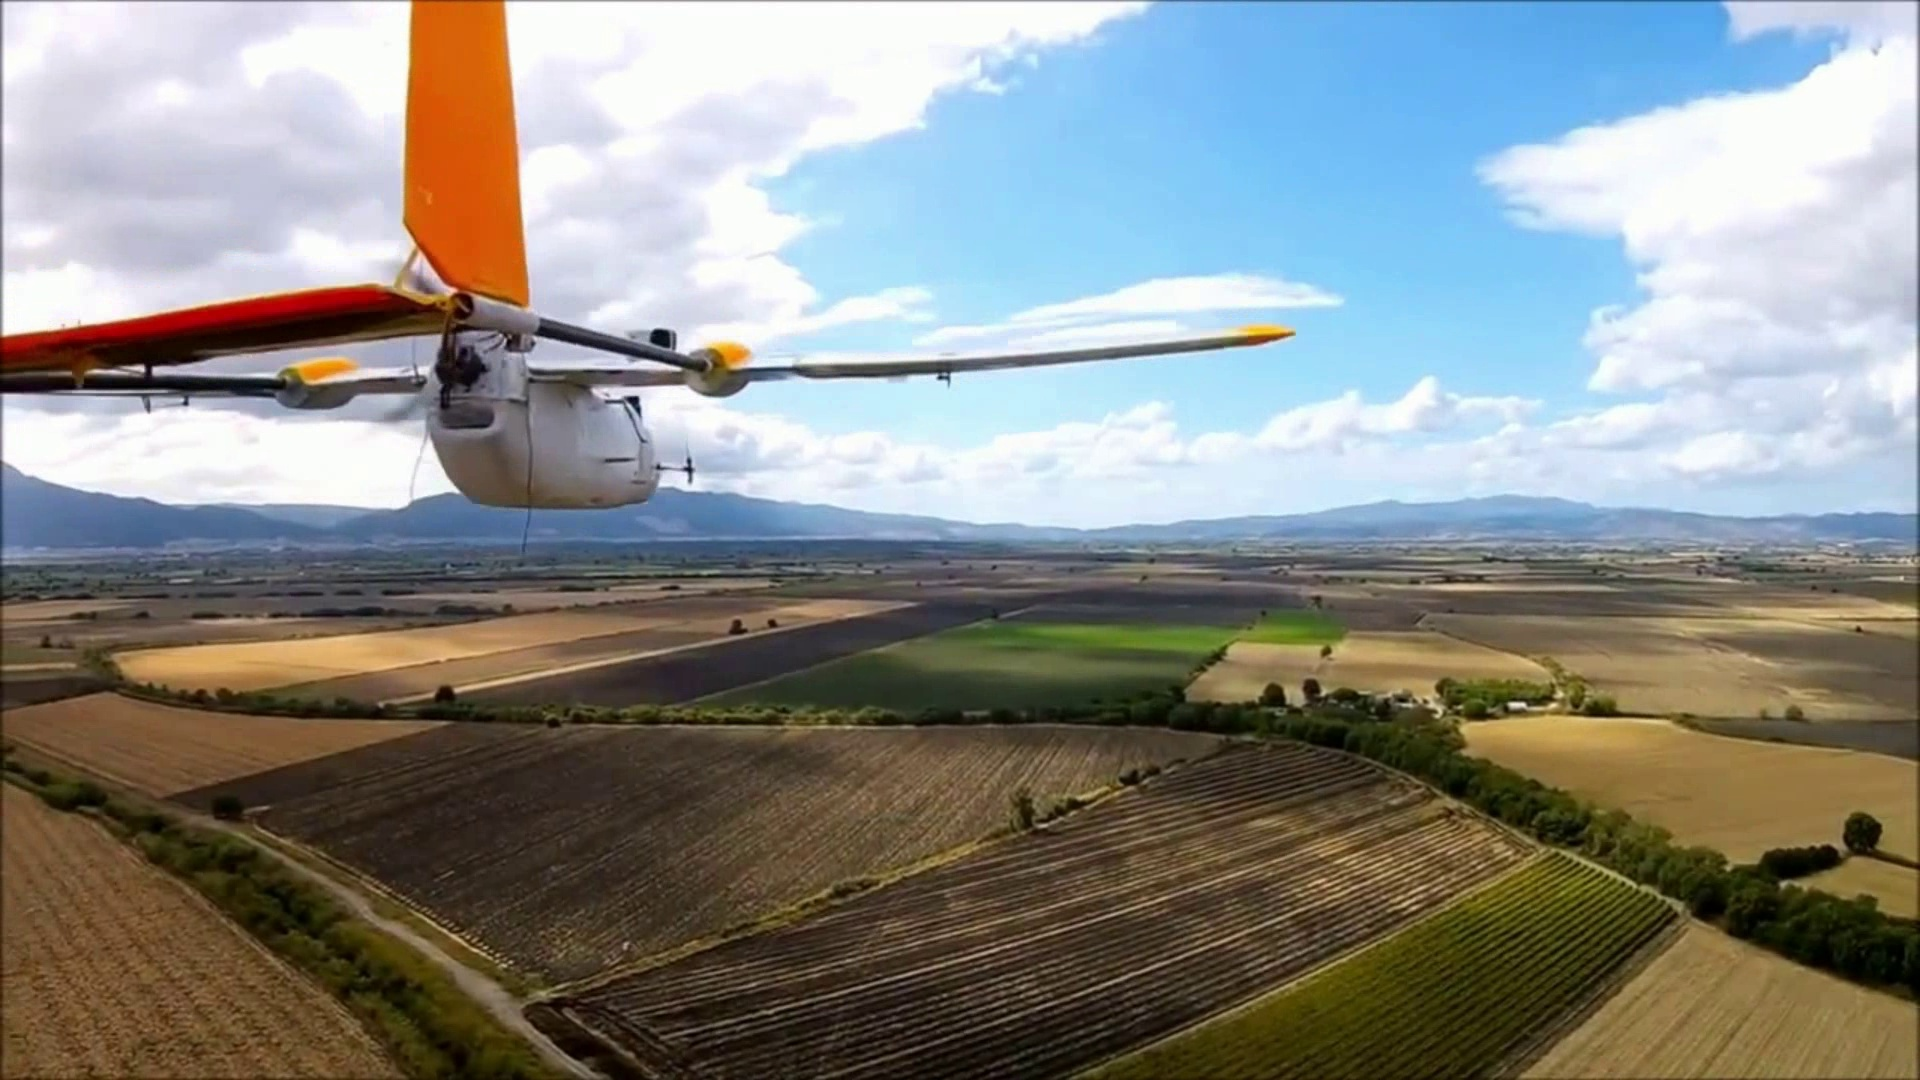airplane: (5, 7, 1343, 516)
